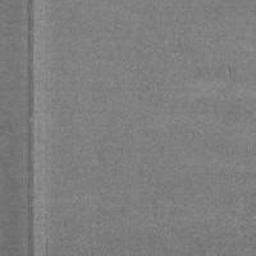Welding line: (27, 0, 34, 256)
